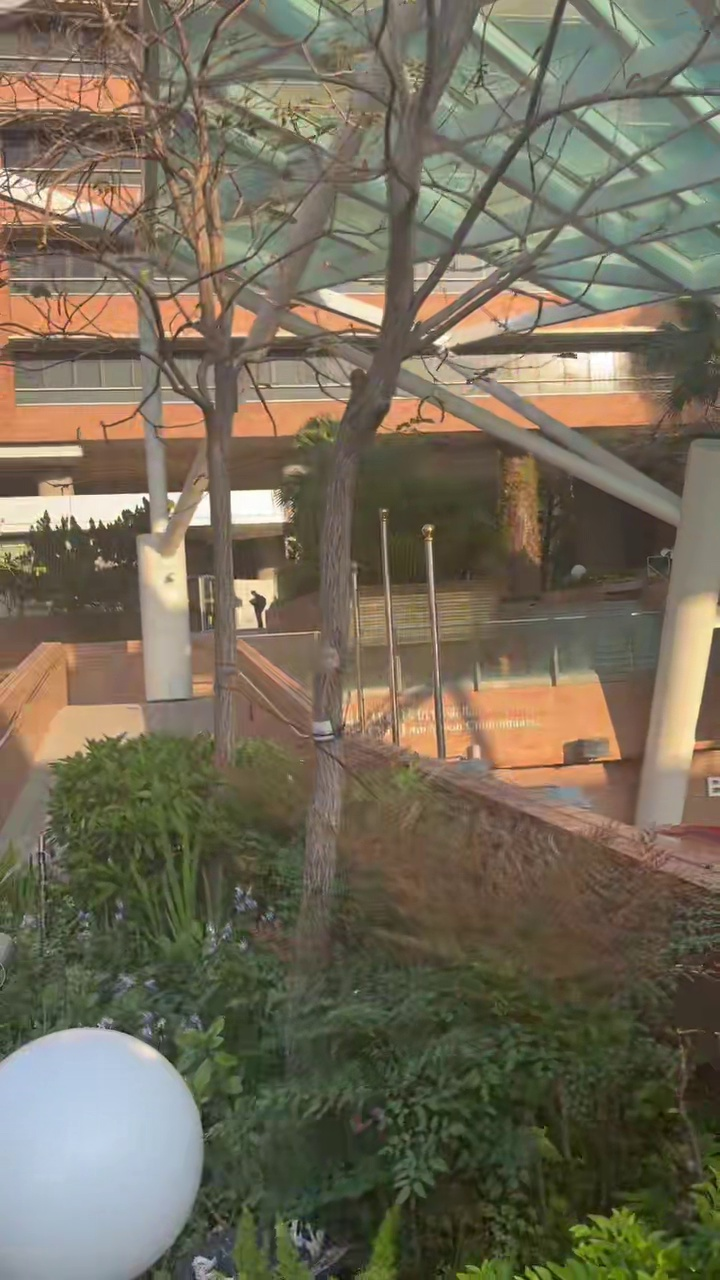Tabebuia chrysantha: (298, 0, 719, 968)
